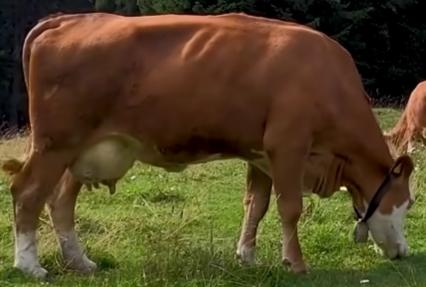cow: (13, 15, 414, 276)
